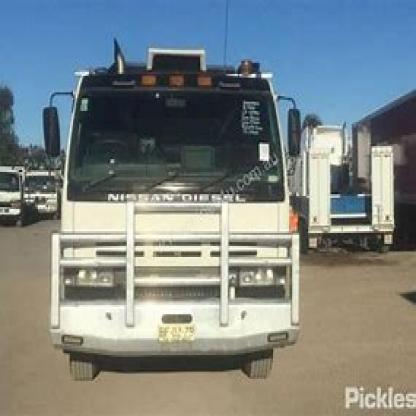dump_truck: (37, 41, 318, 384)
